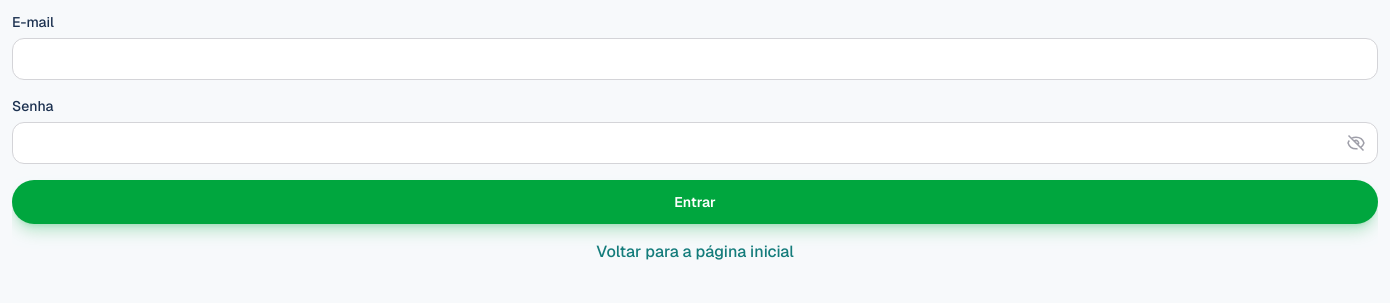
Test: LoginForm › valida formato de e-mail
This screenshot has width=1390, height=303.
Type "sem-arroba" into the field labelled "E-mail".
click(695, 59); type("sem-arroba")  # box [12,38,1378,80]
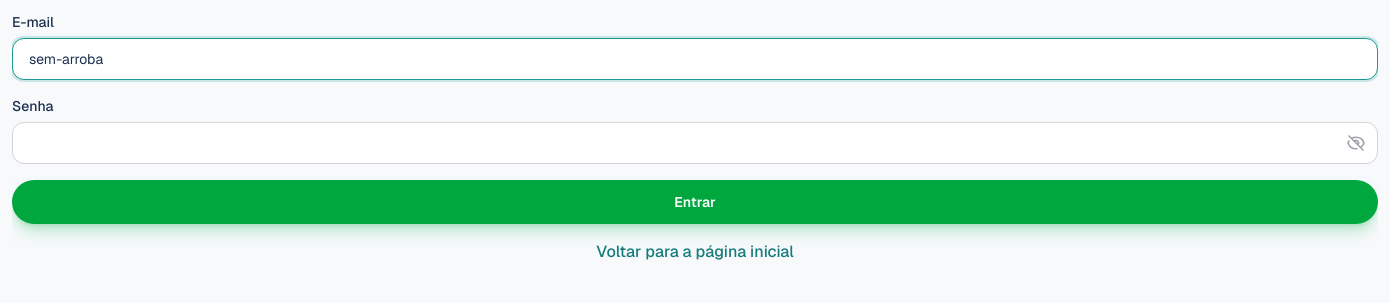
Type "senha-segura" into the password field labelled "Senha".
click(695, 143); type("senha-segura")  # box [12,122,1378,164]
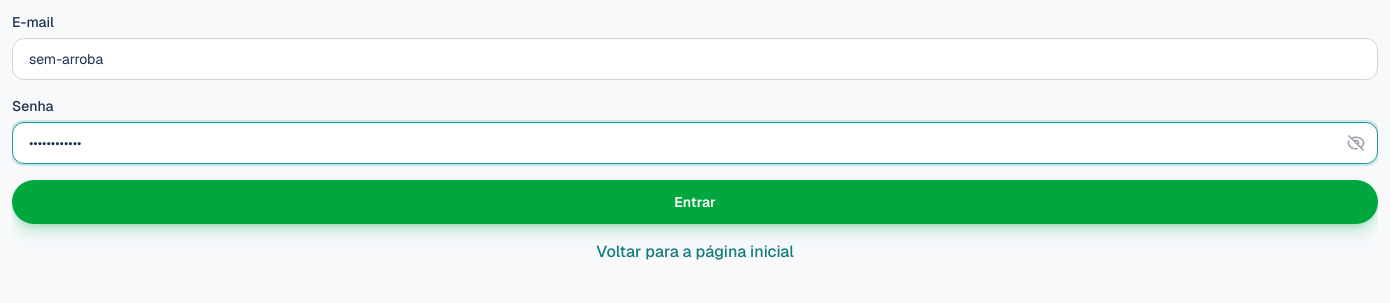
Click the button "Entrar".
click(695, 202)  # box [12,180,1378,224]
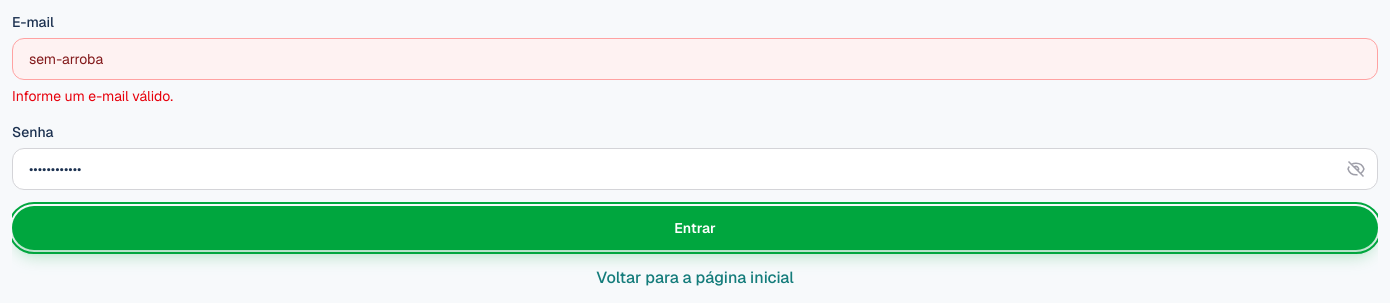
Check: the text "Informe um e-mail válido." is shown, box [12,87,173,105]
